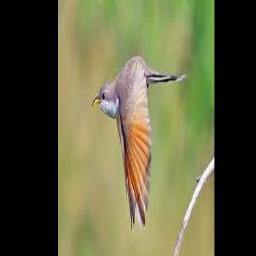Cuckoo: (92, 55, 189, 231)
